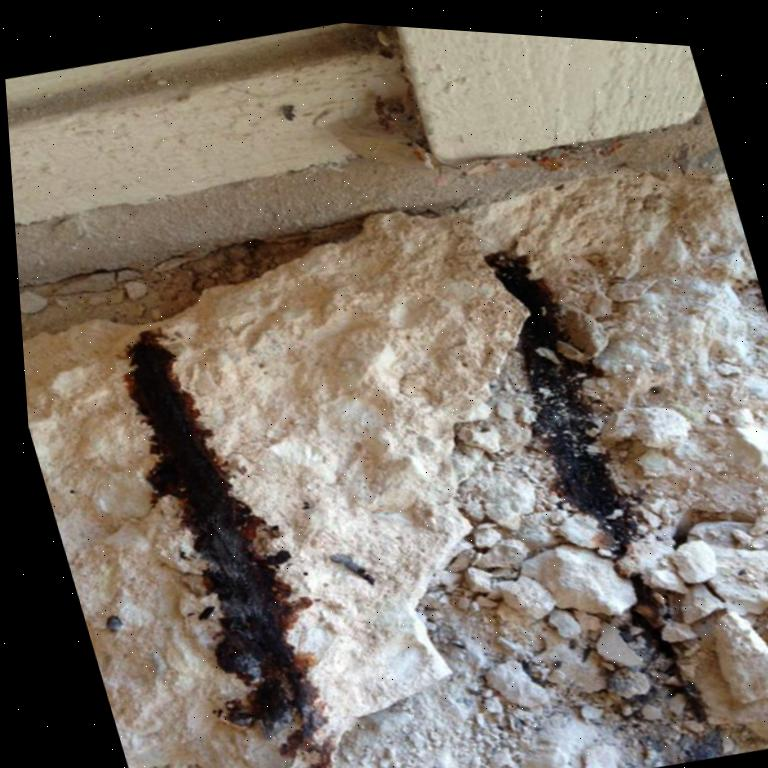exposed_rebar: (125, 331, 315, 745), (486, 251, 634, 546)
spalling: (19, 170, 768, 768)
